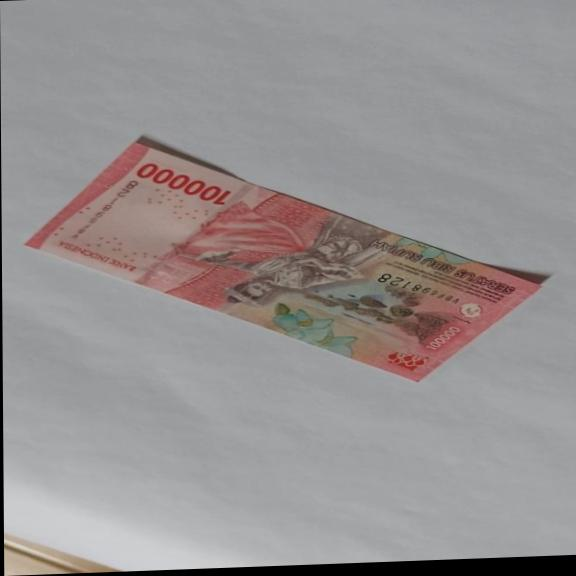Kertas: (21, 122, 544, 397), (135, 159, 234, 209)
